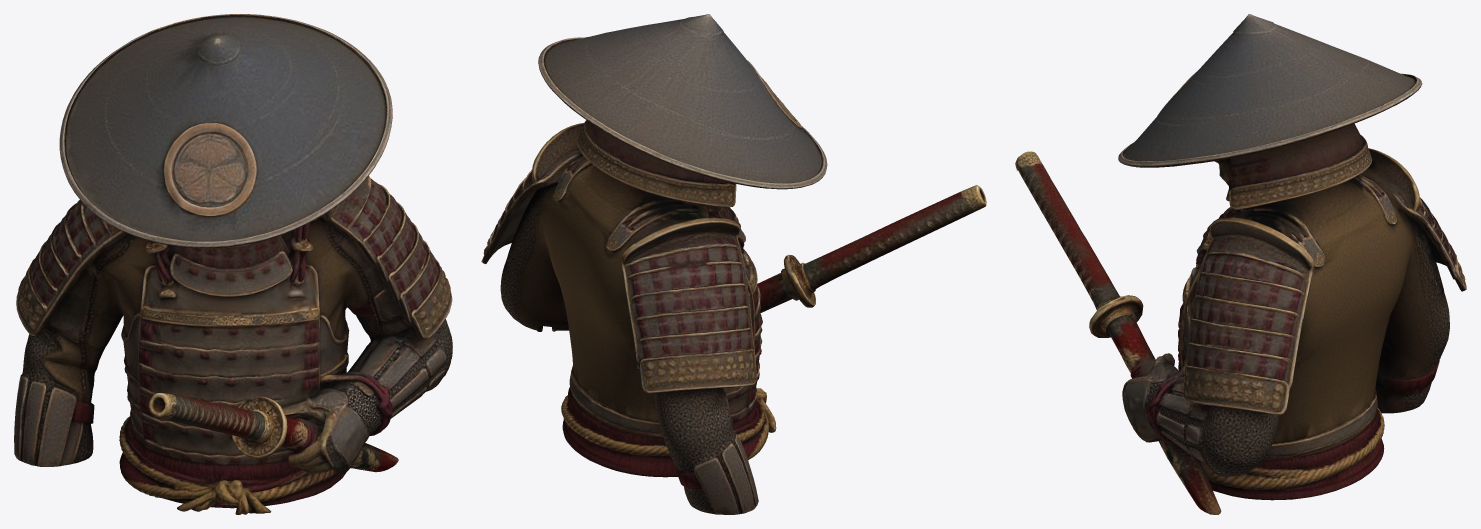
File: warrior-draco.glb
The picture shows the model from 3 angles, left to right: view 1: azimuth 30°, elevation 25°; view 2: azimuth 150°, elevation 25°; view 3: azimuth 270°, elevation 25°; orthographic projection. The views are drawn at different scales.
Parts seen in each view (by area): view 1: meshes[0]; view 2: meshes[0]; view 3: meshes[0].
Boxes of the visible parts, <box> form: meshes[0]: <box>14,14,452,514</box>; meshes[0]: <box>481,14,986,514</box>; meshes[0]: <box>1015,14,1466,514</box>.
Size of the model in its own units: 0.9631 by 1 by 0.9604.
1 material, 1 textured.
